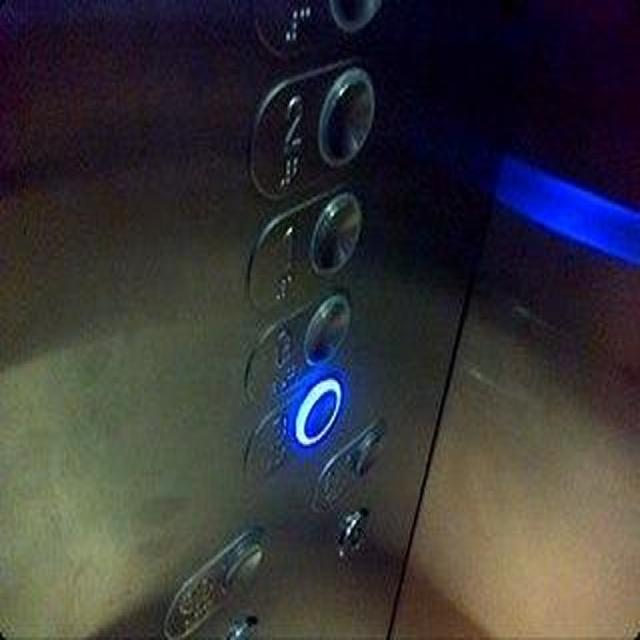1: (238, 182, 368, 294)
2: (245, 52, 381, 200)
blur: (238, 362, 351, 482), (238, 283, 356, 397), (159, 524, 267, 639), (305, 412, 394, 511), (333, 504, 373, 563)
